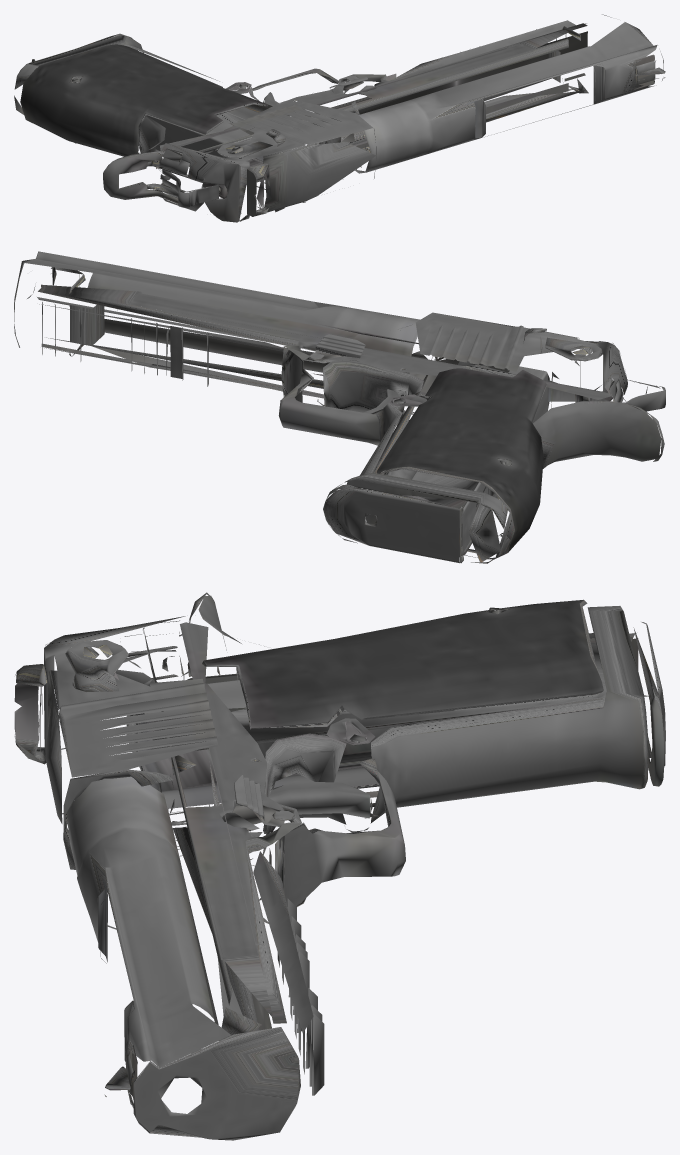
Rendered from w_deagle.glb.
The picture shows the model from 3 angles, top to bottom: view 1: azimuth 30°, elevation 25°; view 2: azimuth 150°, elevation 25°; view 3: azimuth 270°, elevation 25°; orthographic projection. The views are drawn at different scales.
Visible parts, largest first — view 1: w_deagle; view 2: w_deagle; view 3: w_deagle.
Boxes of the visible parts, left/top/right/bottom form: w_deagle: left=14, top=14, right=665, bottom=222; w_deagle: left=14, top=251, right=665, bottom=563; w_deagle: left=14, top=592, right=665, bottom=1140.
Bounding box in the file's own units: 0.4452 × 0.0665 × 0.2585.
1 material, 1 textured.
